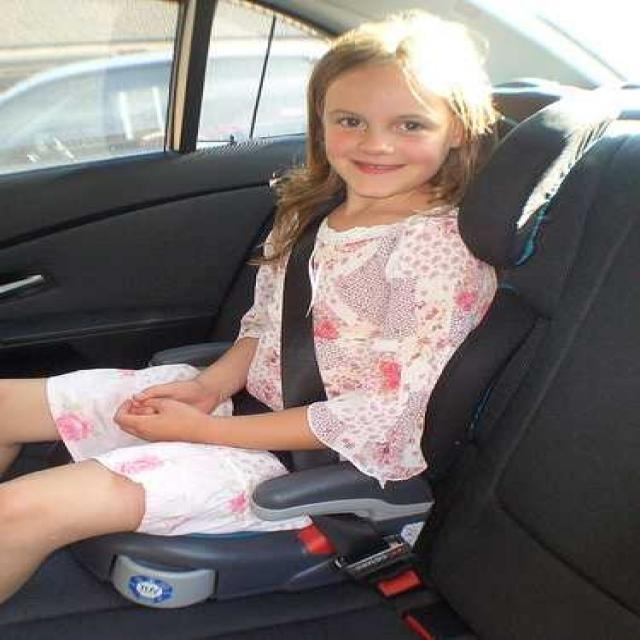seatbelt: (215, 166, 355, 486)
